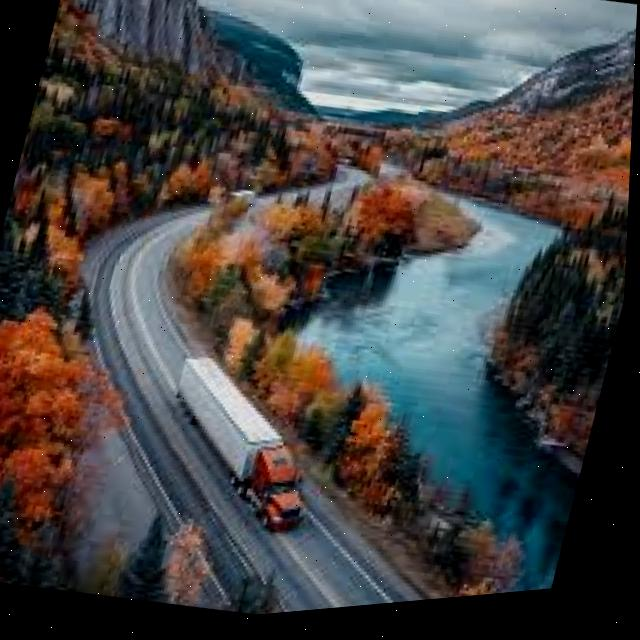truck: (150, 344, 347, 552)
